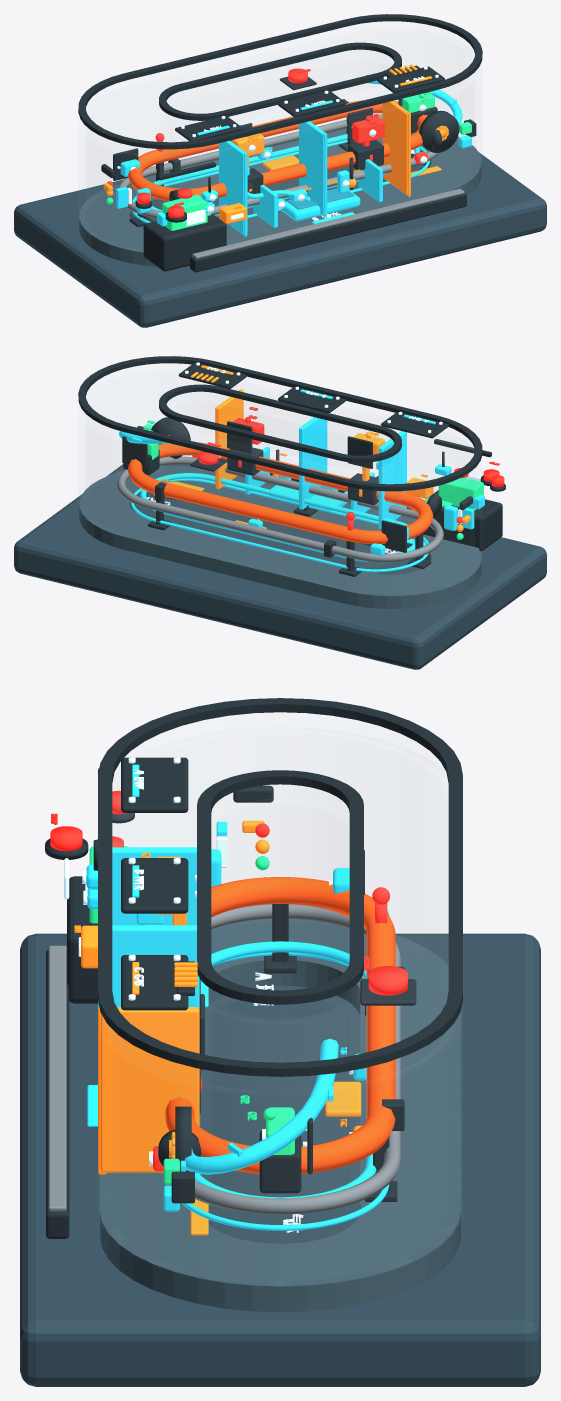
File: utility-tunnel-ring-v02.glb
3 renders of one model, top to bottom at view 1: azimuth 30°, elevation 25°; view 2: azimuth 150°, elevation 25°; view 3: azimuth 270°, elevation 25°, orthographic. The views are drawn at different scales.
Visible parts, largest first — view 1: MESH_BASE_01, MESH_RING_FLOOR, MESH_RING_OUTER_RAIL, MESH_RING_INNER_RAIL, MESH_CABLE_DUCT_01, MESH_PIPE_G01, MESH_CTRL_DRY_BAY, MESH_PIPE_UTILITY_01, GEO_ZONE_C_RIB, GEO_ZONE_B_RIB, GEO_CABLE_DUCT_COVER, GEO_ZONE_A_RIB (+18 smaller); view 2: MESH_BASE_01, MESH_RING_FLOOR, MESH_RING_OUTER_RAIL, MESH_PIPE_G01, MESH_PIPE_UTILITY_01, MESH_RING_INNER_RAIL, MESH_PIPE_UTILITY_02, MESH_CTRL_DRY_BAY, MESH_LED_RING, GEO_ZONE_B_RIB, GEO_ZONE_A_RIB, GEO_ZONE_C_RIB (+12 smaller); view 3: MESH_BASE_01, MESH_RING_FLOOR, MESH_RING_OUTER_RAIL, MESH_PIPE_G01, GEO_ZONE_C_RIB, MESH_RING_INNER_RAIL, MESH_PIPE_UTILITY_01, GEO_CABLE_DUCT_COVER, MESH_VENT_01, MESH_ROOF_HATCH_B, MESH_ROOF_HATCH_A, GEO_ZONE_B_RIB (+12 smaller).
Boxes of the visible parts, left/top/right/bottom form: MESH_BASE_01: left=14, top=128, right=546, bottom=327; MESH_RING_FLOOR: left=79, top=128, right=481, bottom=266; MESH_RING_OUTER_RAIL: left=78, top=14, right=482, bottom=149; MESH_RING_INNER_RAIL: left=159, top=42, right=401, bottom=120; MESH_CABLE_DUCT_01: left=190, top=193, right=466, bottom=272; MESH_PIPE_G01: left=128, top=100, right=427, bottom=200; MESH_CTRL_DRY_BAY: left=143, top=213, right=226, bottom=271; MESH_PIPE_UTILITY_01: left=118, top=114, right=439, bottom=218; GEO_ZONE_C_RIB: left=382, top=100, right=410, bottom=194; GEO_ZONE_B_RIB: left=299, top=121, right=327, bottom=215; GEO_CABLE_DUCT_COVER: left=192, top=188, right=464, bottom=258; GEO_ZONE_A_RIB: left=219, top=140, right=247, bottom=234; MESH_BASE_01: left=14, top=464, right=546, bottom=669; MESH_RING_FLOOR: left=79, top=465, right=481, bottom=608; MESH_RING_OUTER_RAIL: left=78, top=356, right=482, bottom=491; MESH_PIPE_G01: left=127, top=442, right=433, bottom=543; MESH_PIPE_UTILITY_01: left=117, top=456, right=443, bottom=561; MESH_RING_INNER_RAIL: left=159, top=384, right=401, bottom=462; MESH_PIPE_UTILITY_02: left=140, top=473, right=415, bottom=561; MESH_CTRL_DRY_BAY: left=423, top=490, right=502, bottom=550; MESH_LED_RING: left=130, top=478, right=428, bottom=572; GEO_ZONE_B_RIB: left=299, top=417, right=327, bottom=509; GEO_ZONE_A_RIB: left=378, top=431, right=406, bottom=528; GEO_ZONE_C_RIB: left=215, top=390, right=243, bottom=489; MESH_BASE_01: left=20, top=933, right=540, bottom=1386; MESH_RING_FLOOR: left=100, top=918, right=460, bottom=1312; MESH_RING_OUTER_RAIL: left=98, top=698, right=462, bottom=1076; MESH_PIPE_G01: left=165, top=877, right=395, bottom=1173; GEO_ZONE_C_RIB: left=100, top=1007, right=199, bottom=1172; MESH_RING_INNER_RAIL: left=197, top=770, right=363, bottom=1004; MESH_PIPE_UTILITY_01: left=195, top=904, right=401, bottom=1214; GEO_CABLE_DUCT_COVER: left=48, top=945, right=66, bottom=1211; MESH_VENT_01: left=184, top=1038, right=338, bottom=1174; MESH_ROOF_HATCH_B: left=121, top=858, right=188, bottom=913; MESH_ROOF_HATCH_A: left=121, top=757, right=188, bottom=812; GEO_ZONE_B_RIB: left=112, top=925, right=199, bottom=1008.
Bounding box in the file's own units: 1.05 × 0.389 × 0.58.
